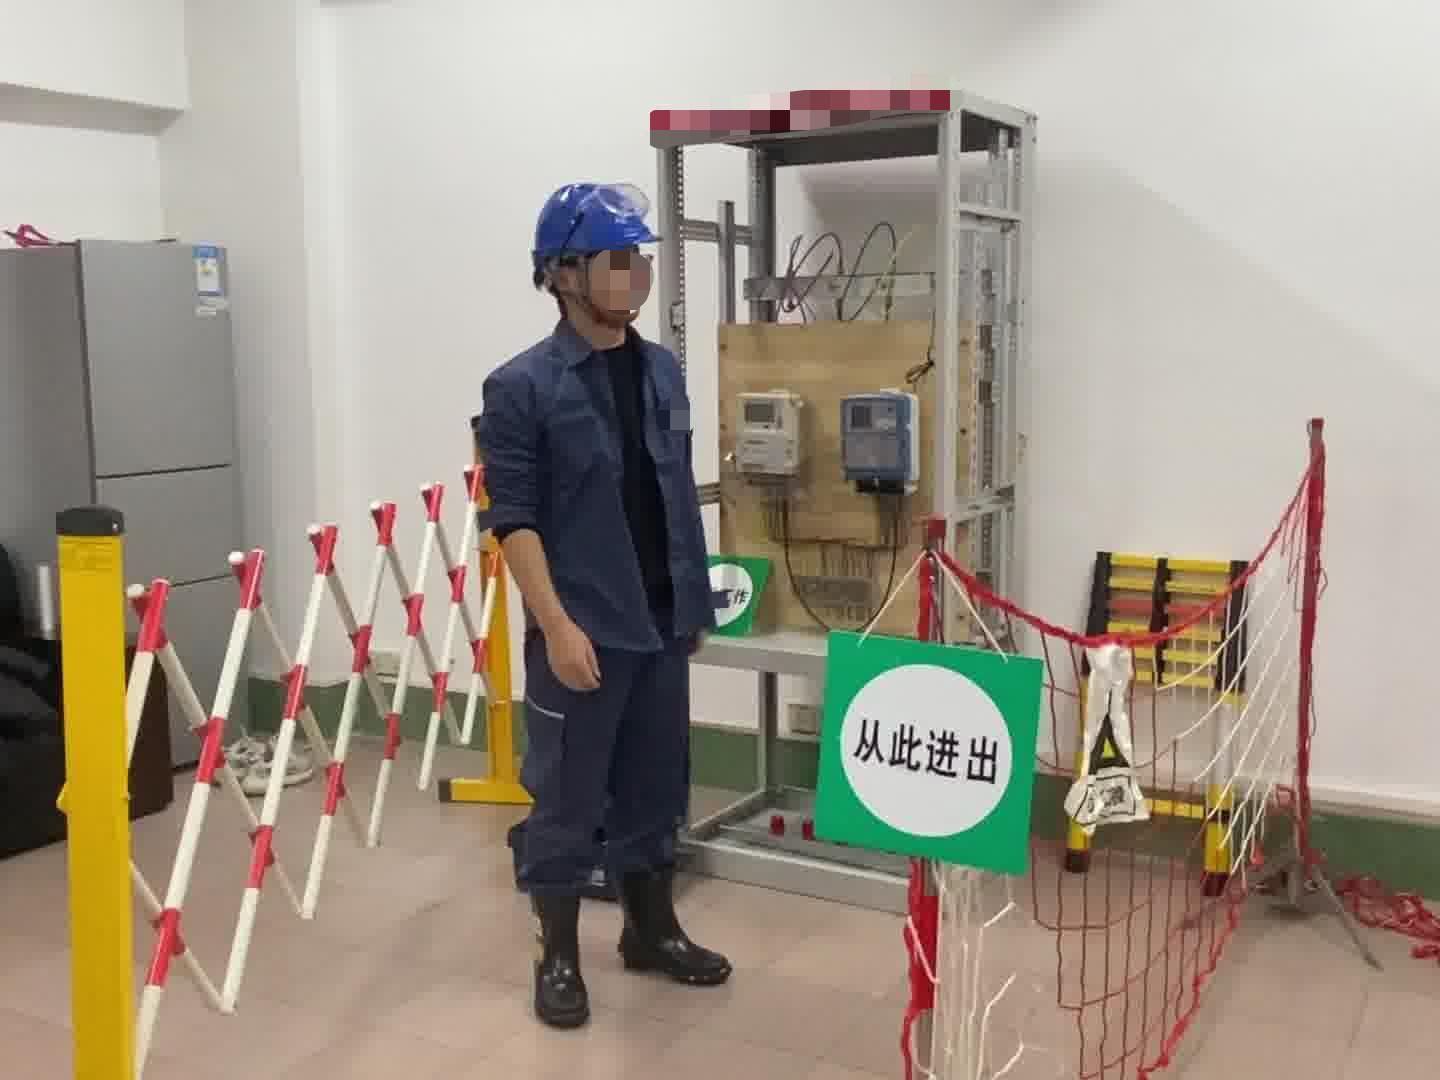halt: (530, 182, 664, 339)
inear: (547, 258, 601, 317)
